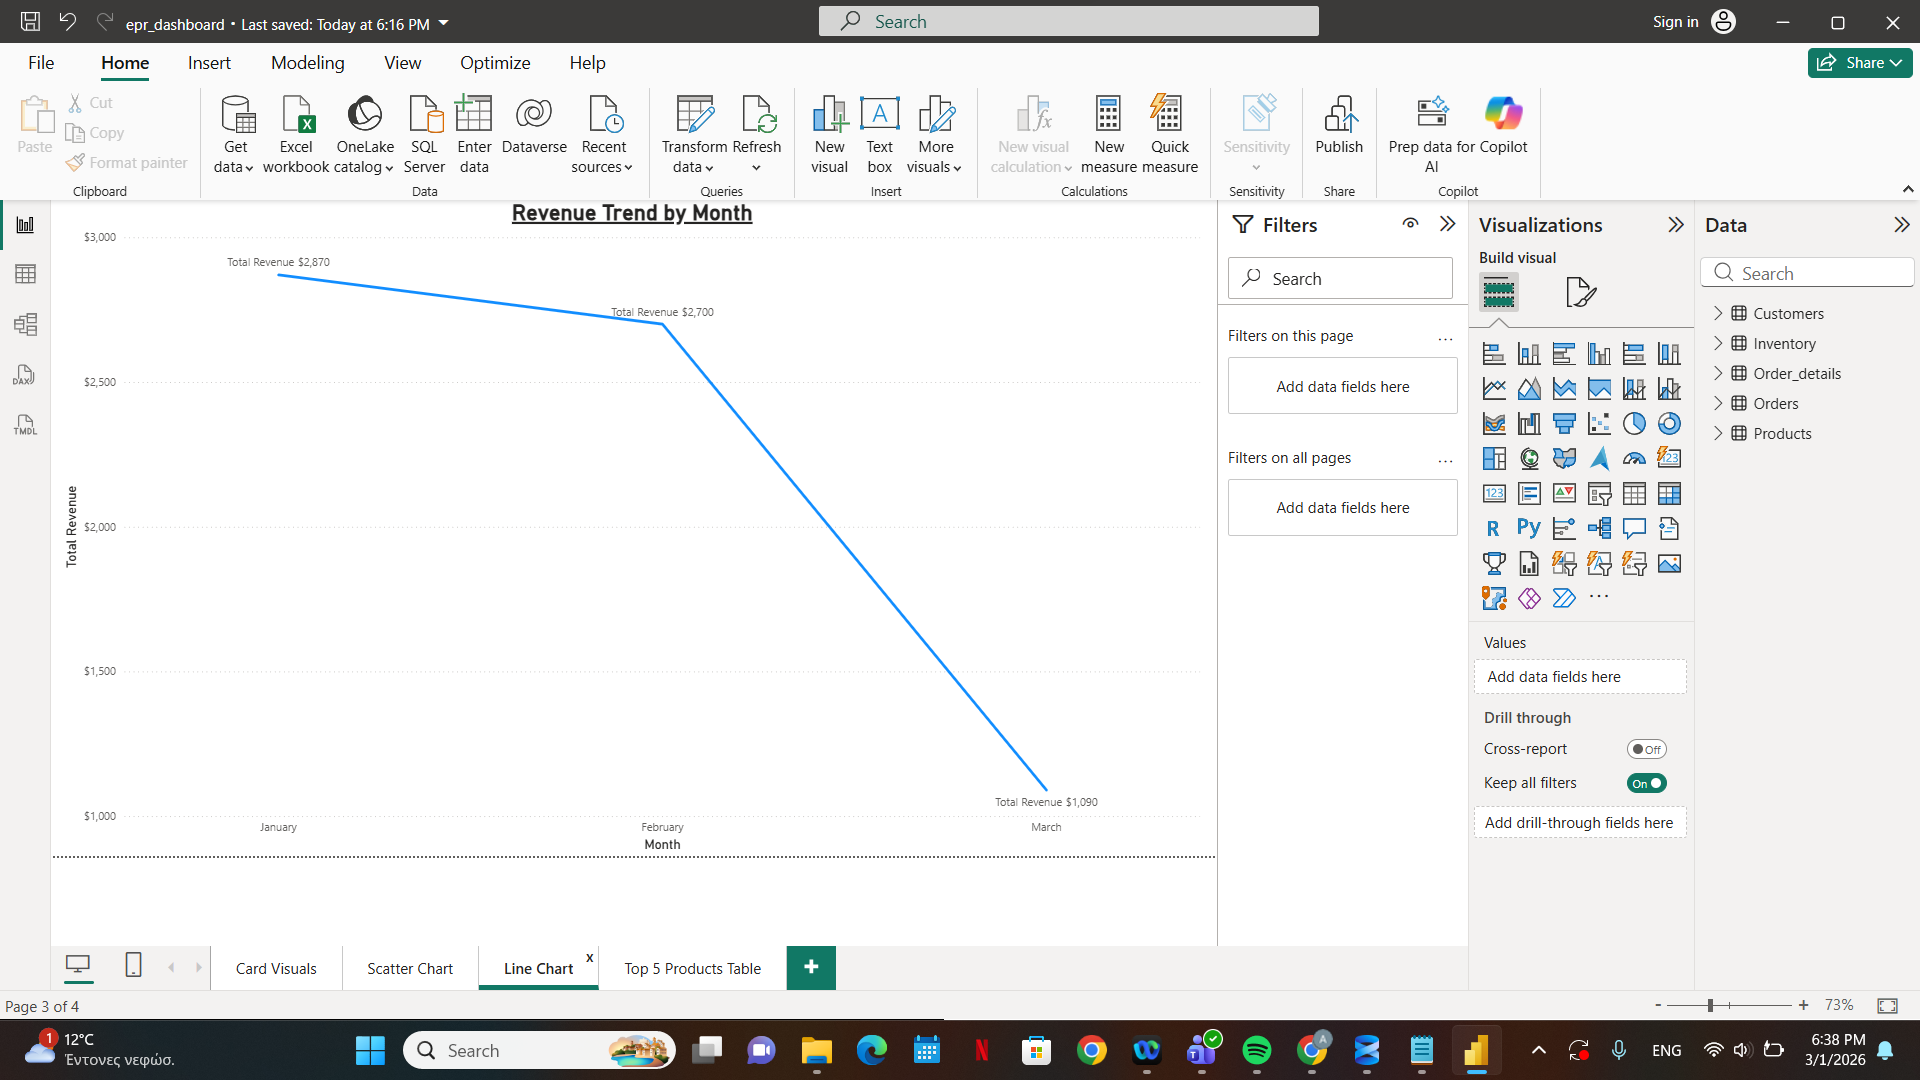

This screenshot's page, from the dashboard's own definition file:
{"tool":"powerbi","page":{"name":"Line Chart","canvas":[1280,720],"ordinal":2},"visuals":[{"type":"lineChart","title":"Revenue Trend by Month","fields":{"Category":["Orders.Order_date.Variation.Date Hierarchy.Month"],"Y":["Order_details.Total Revenue"]},"box":[9.6,0,1257,720.4],"z":0}]}

Visuals, with their boxes on the page's 1280x720 design canvas (x1, y1, x2, y2). These are canvas units, not pixel positions in the 1920x1080 screenshot, which may show the page scaled, cropped or inside an application window:
"Revenue Trend by Month" lineChart: select_region(10, 0, 1267, 720)
